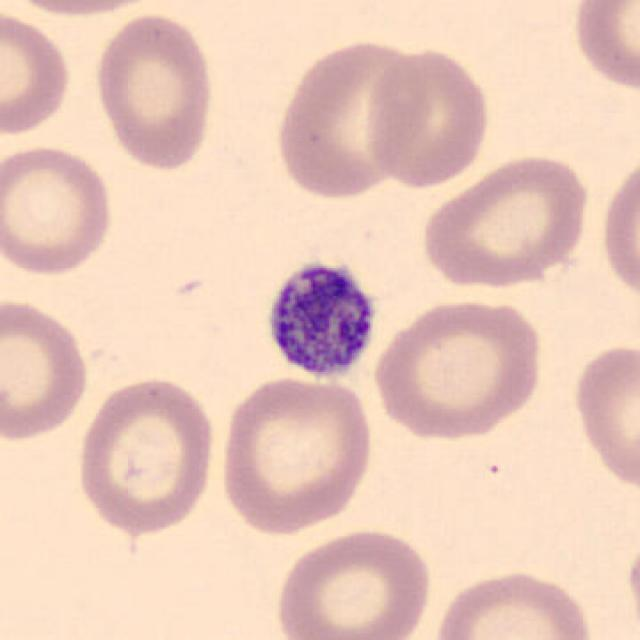Platelets: (261, 252, 384, 384)
RBC: (268, 33, 434, 203), (213, 372, 379, 538), (370, 294, 549, 442), (416, 150, 596, 291), (71, 372, 221, 538), (89, 9, 219, 174), (361, 42, 494, 192), (270, 523, 437, 640), (0, 141, 117, 278), (0, 292, 92, 444), (427, 564, 599, 640), (567, 337, 640, 497), (0, 7, 75, 139), (595, 148, 640, 310), (567, 0, 638, 97), (2, 0, 176, 19), (624, 522, 640, 640)
